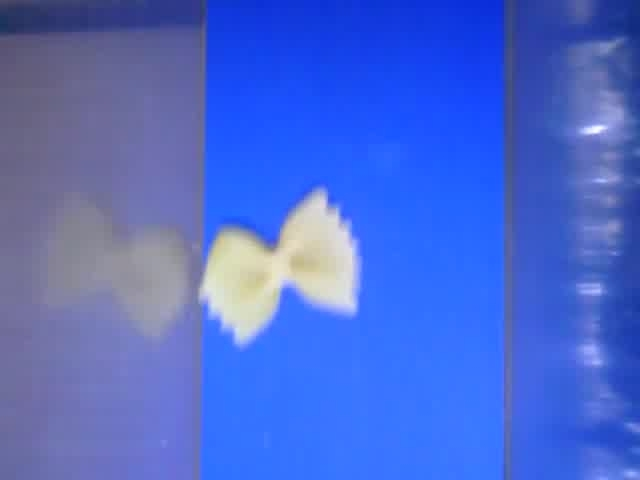farfalle: (200, 187, 361, 348)
